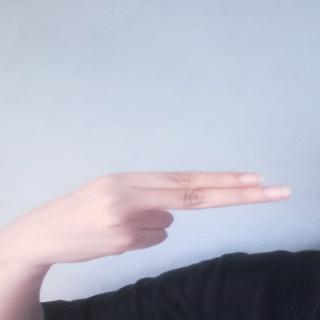AYN: (0, 163, 304, 274)
